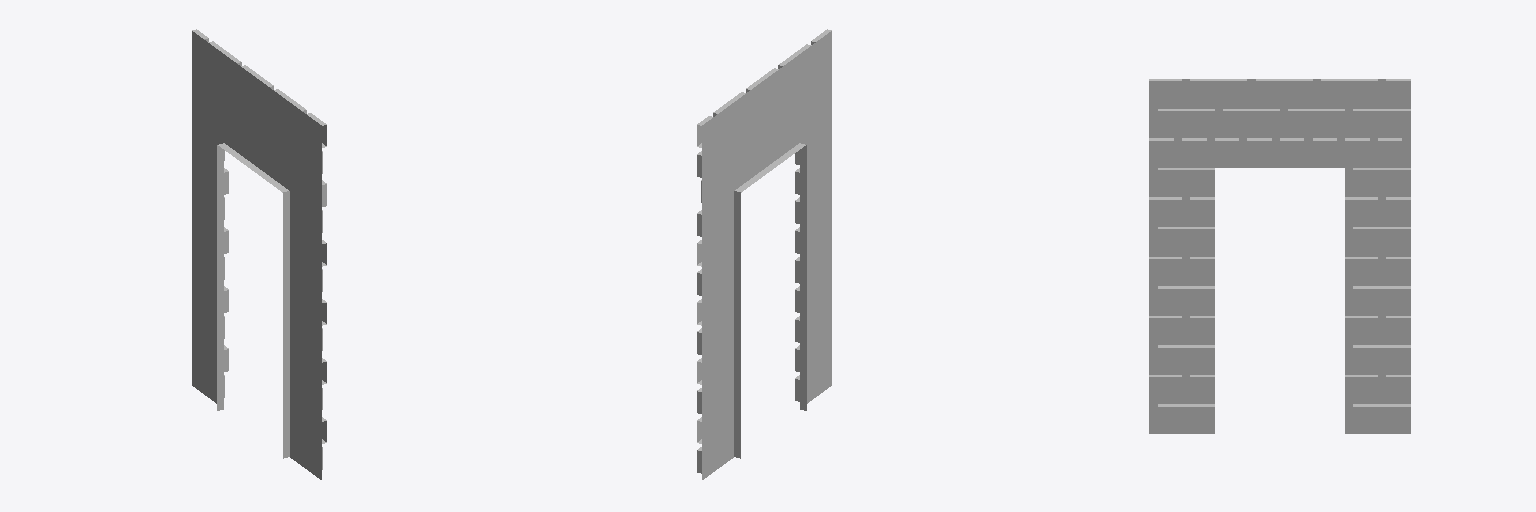
File: Brick_Wall_Doorway.obj
3 renders of one model, left to right at view 1: azimuth 30°, elevation 25°; view 2: azimuth 150°, elevation 25°; view 3: azimuth 270°, elevation 25°, orthographic.
Visible parts, largest first — view 1: Brick_Wall_Doorway_Plane.061; view 2: Brick_Wall_Doorway_Plane.061; view 3: Brick_Wall_Doorway_Plane.061.
Part boxes in pixels (bbox=[...]): Brick_Wall_Doorway_Plane.061: bbox=[192, 29, 326, 479]; Brick_Wall_Doorway_Plane.061: bbox=[697, 29, 831, 479]; Brick_Wall_Doorway_Plane.061: bbox=[1149, 79, 1410, 433].
Size of the model in its own units: 0.1067 by 3 by 2.